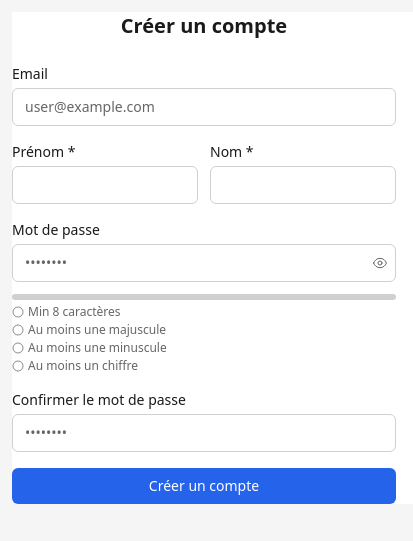
Test: RegisterForm — i18n field errors › renders field error in French when locale is fr
The image size is (413, 541).
Type "test@example.com" into the field with placeholder "user@example.com" at (204,107), box 12,88 -> 396,126
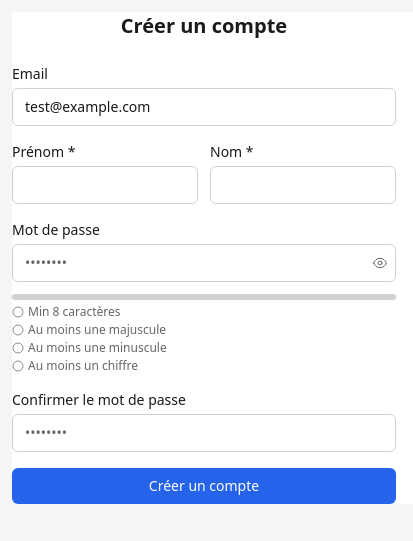
Type "StrongP@ss1" into the password field with placeholder "••••••••" at (204,263), box 12,244 -> 396,282
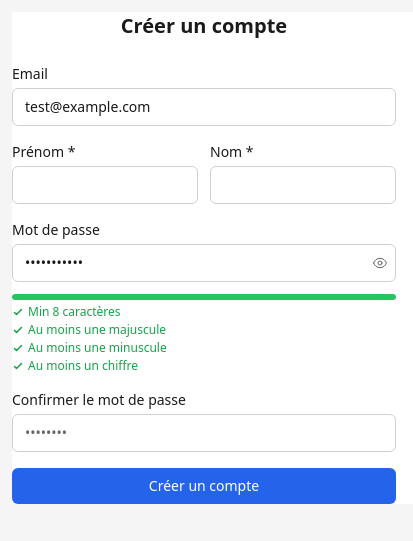
Type "StrongP@ss1" into the password field with placeholder "••••••••" at (204,433), box 12,414 -> 396,452
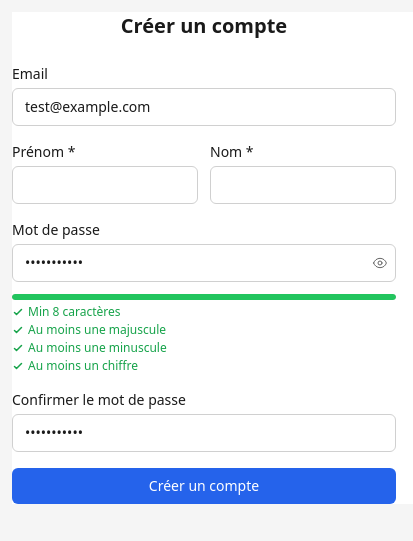
Type "Jean" into the field labelled "Prénom *" at (105,185), box 12,166 -> 198,204
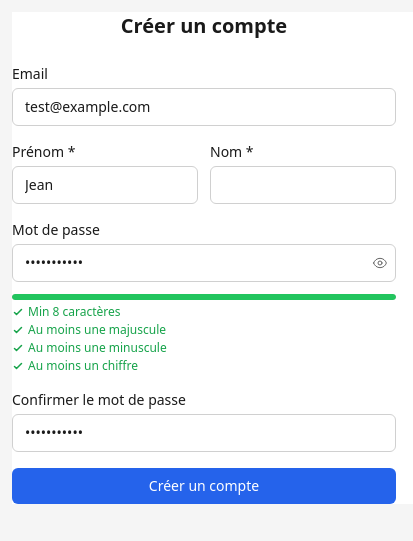
Type "Dupont" into the field labelled "Nom *" at (303,185), box 210,166 -> 396,204
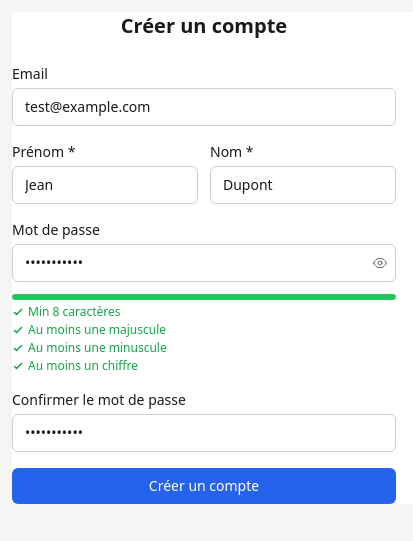
Click the button "Créer un compte" at (204,486), box 12,468 -> 396,504
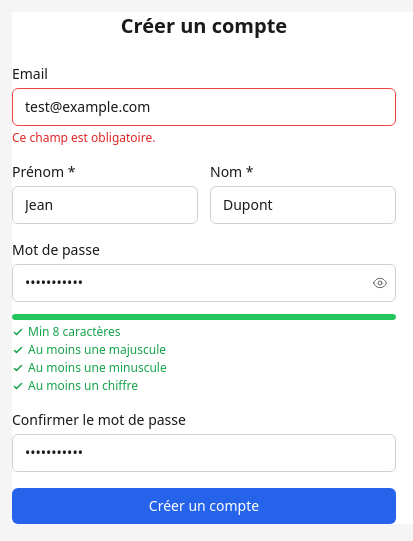
Result: the text "Ce champ est obligatoire." is shown at 12,129 -> 155,146
